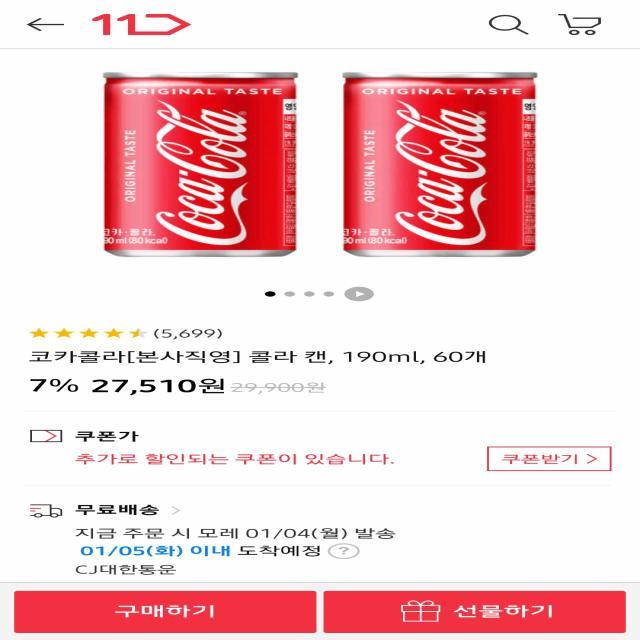coca-cola: (334, 60, 546, 260), (98, 66, 306, 262)
